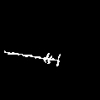treble_crochet: (4, 51, 59, 65)
